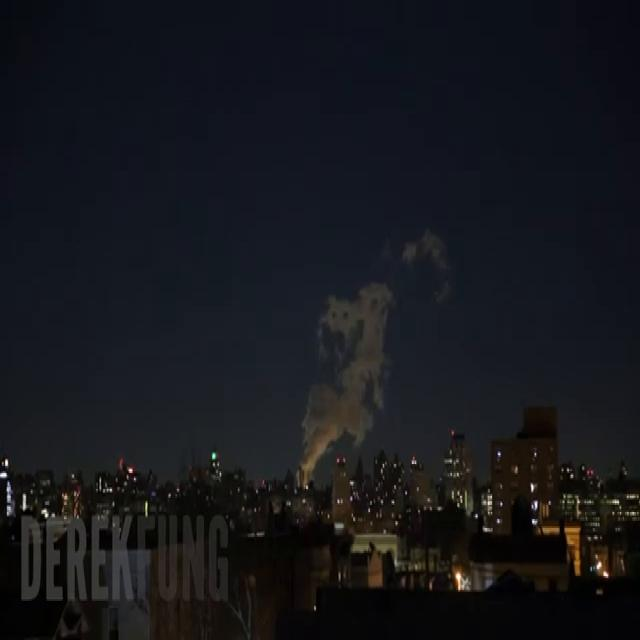smoke: (300, 283, 394, 478)
